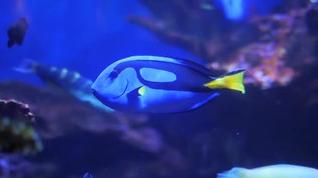Acanthuridae -Surgeonfishes-: (90, 52, 246, 114)
